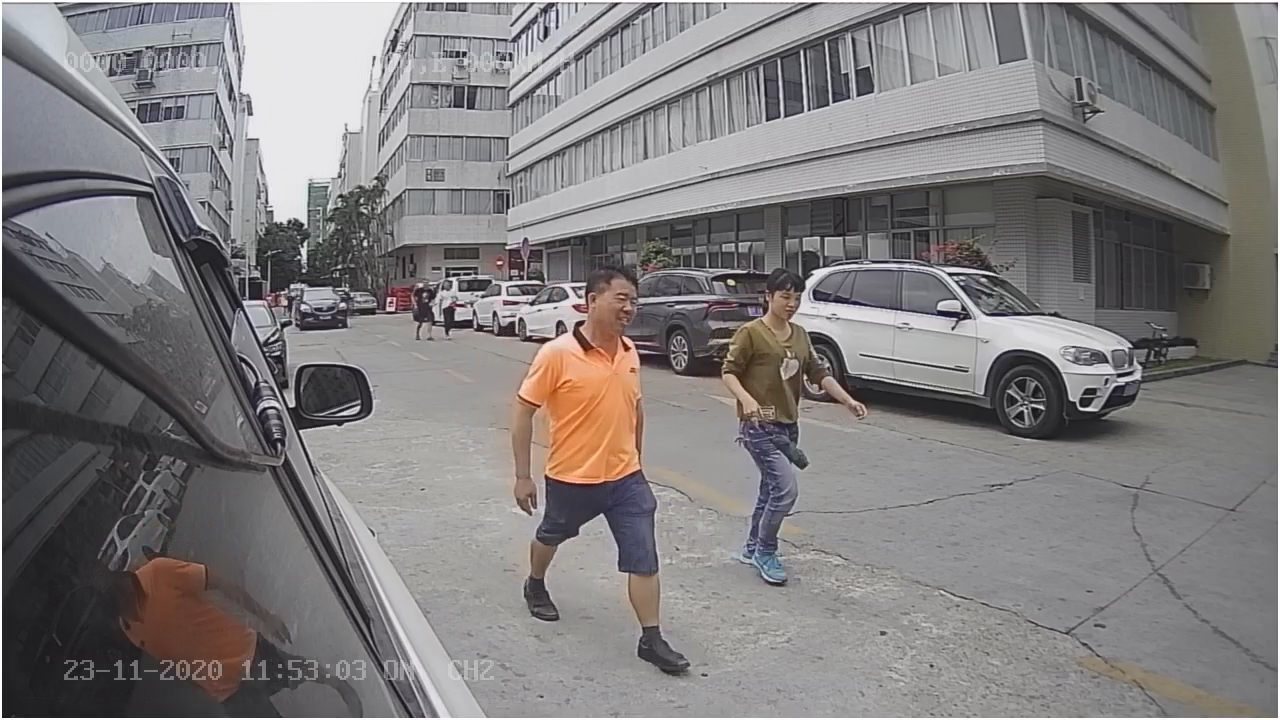person: (509, 257, 668, 644), (719, 262, 824, 596)
